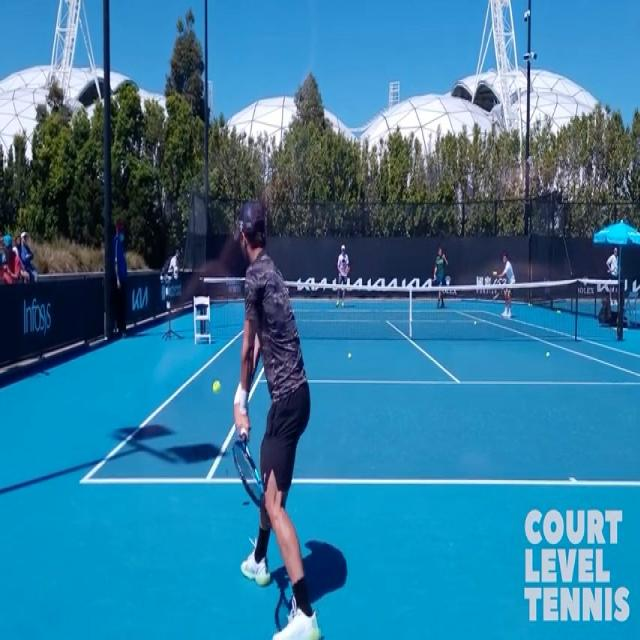backhand-stroke: (189, 166, 322, 639)
